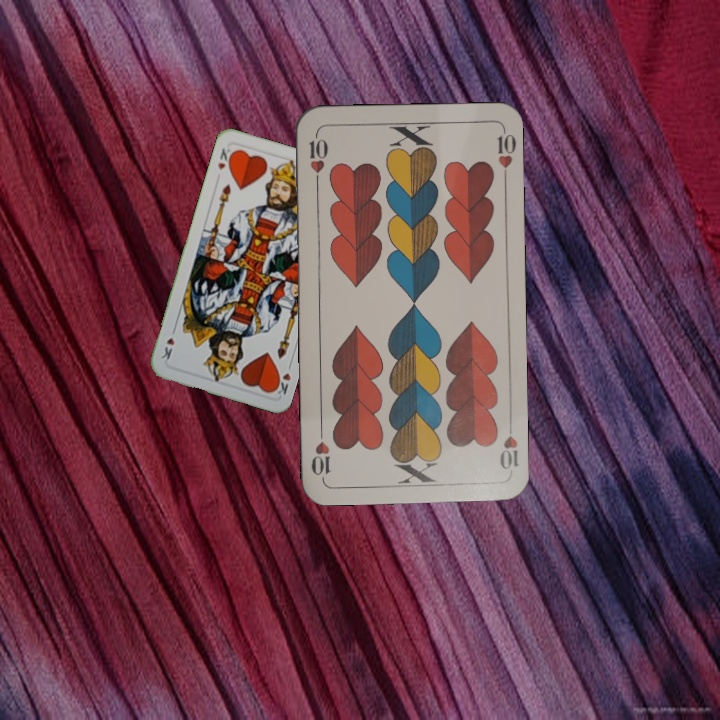H10: (495, 417, 520, 472), (306, 130, 329, 189)
HK: (270, 358, 294, 398), (214, 144, 236, 172)
